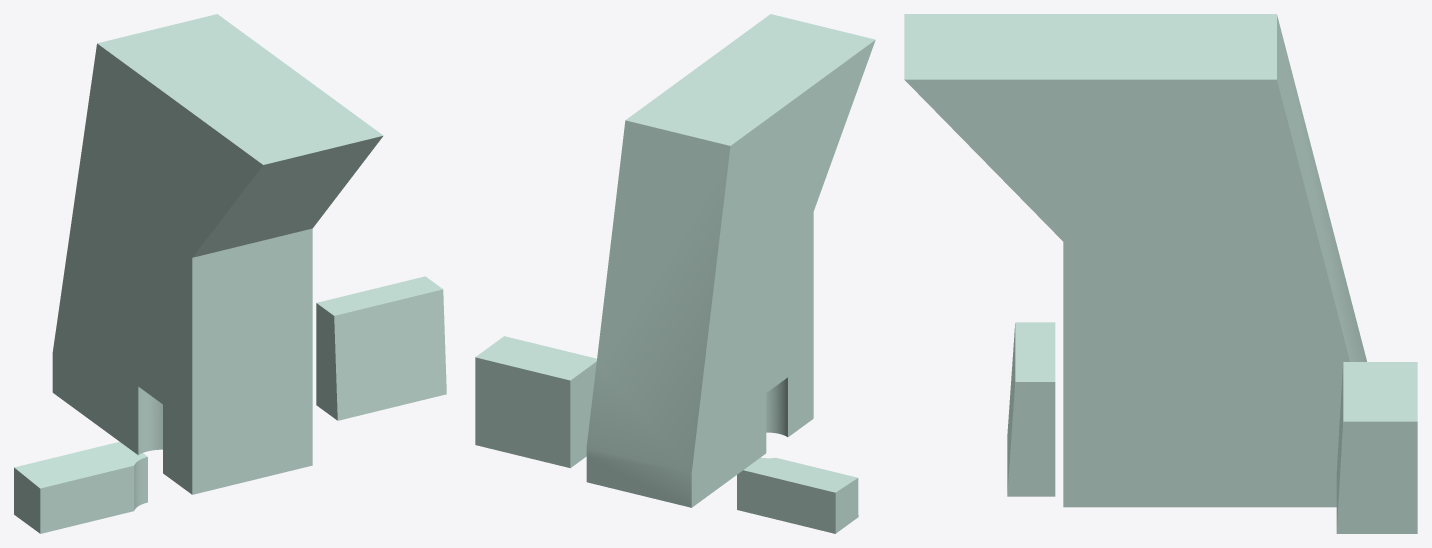
The picture shows the model from 3 angles, left to right: view 1: azimuth 30°, elevation 25°; view 2: azimuth 150°, elevation 25°; view 3: azimuth 270°, elevation 25°; orthographic projection. The views are drawn at different scales.
Parts seen in each view (by area): view 1: Renderer Node; view 2: Renderer Node; view 3: Renderer Node.
Part boxes in pixels (x1,y1,x2,y2): Renderer Node: (14, 14, 446, 533); Renderer Node: (475, 14, 875, 533); Renderer Node: (904, 14, 1417, 533).
Bounding box in the file's own units: 1.38 × 1.72 × 1.65.
